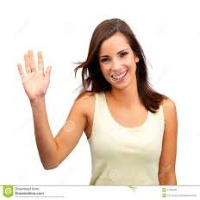ring: (22, 53, 32, 77)
